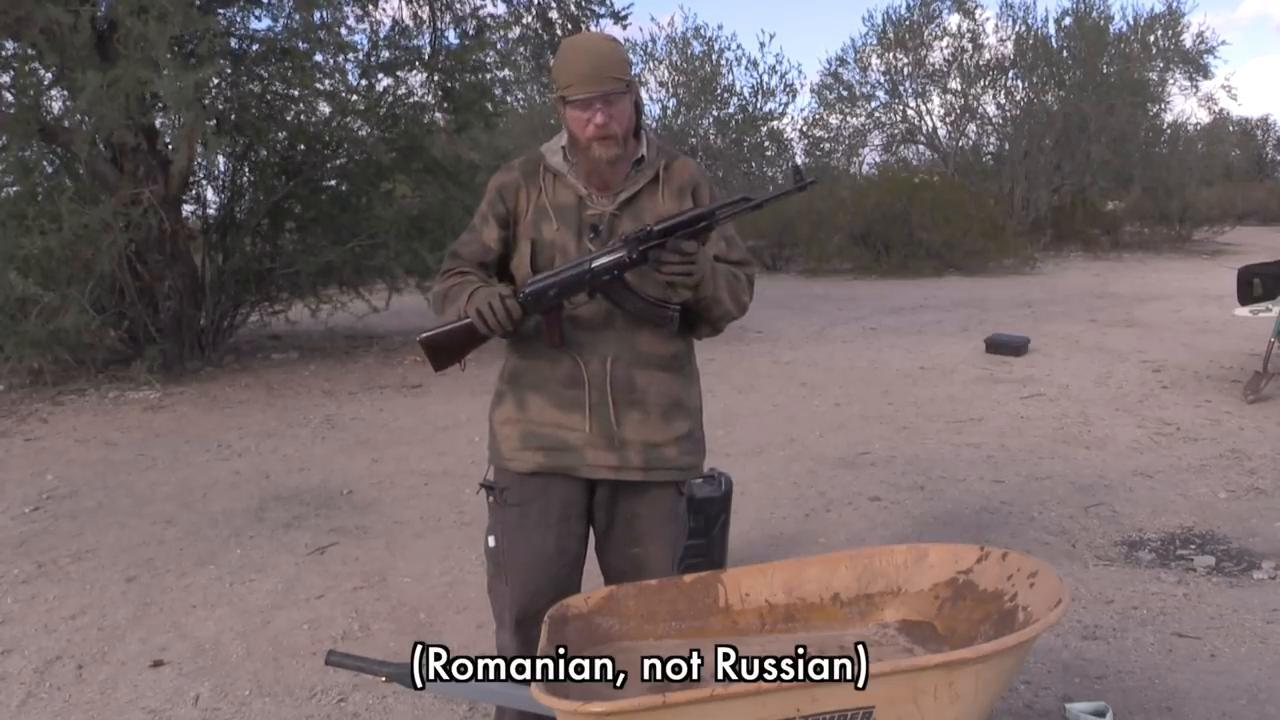AK47 Rifle: (415, 162, 820, 374)
